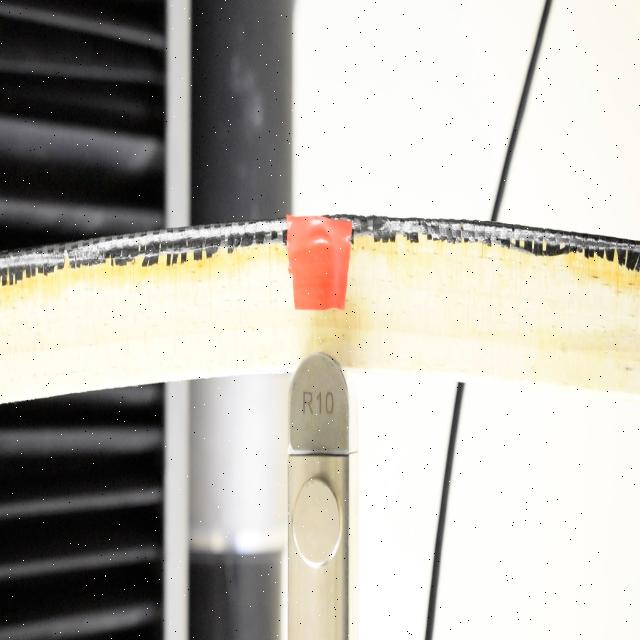wood: (3, 209, 640, 393)
